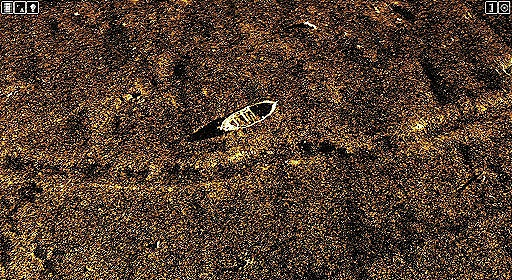ship: (216, 99, 280, 131)
